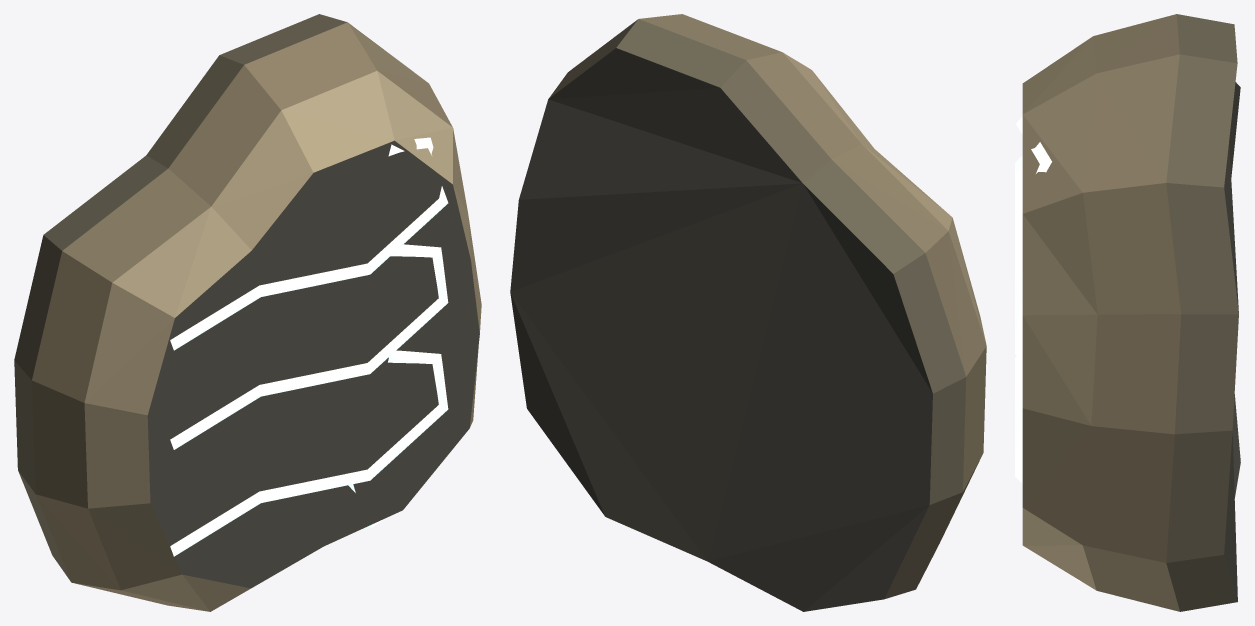
File: FERNSTONE_WIND.lo.glb
The picture shows the model from 3 angles, left to right: view 1: azimuth 30°, elevation 25°; view 2: azimuth 150°, elevation 25°; view 3: azimuth 270°, elevation 25°; orthographic projection. The views are drawn at different scales.
Visible parts, largest first — view 1: Body_Mesh; view 2: Body_Mesh; view 3: Body_Mesh.
Boxes of the visible parts, <box> form: Body_Mesh: <box>14,14,481,611</box>; Body_Mesh: <box>510,14,986,611</box>; Body_Mesh: <box>1015,14,1240,611</box>.
Bounding box in the file's own units: 0.2658 × 0.3157 × 0.1054.
1 material, 1 textured.
